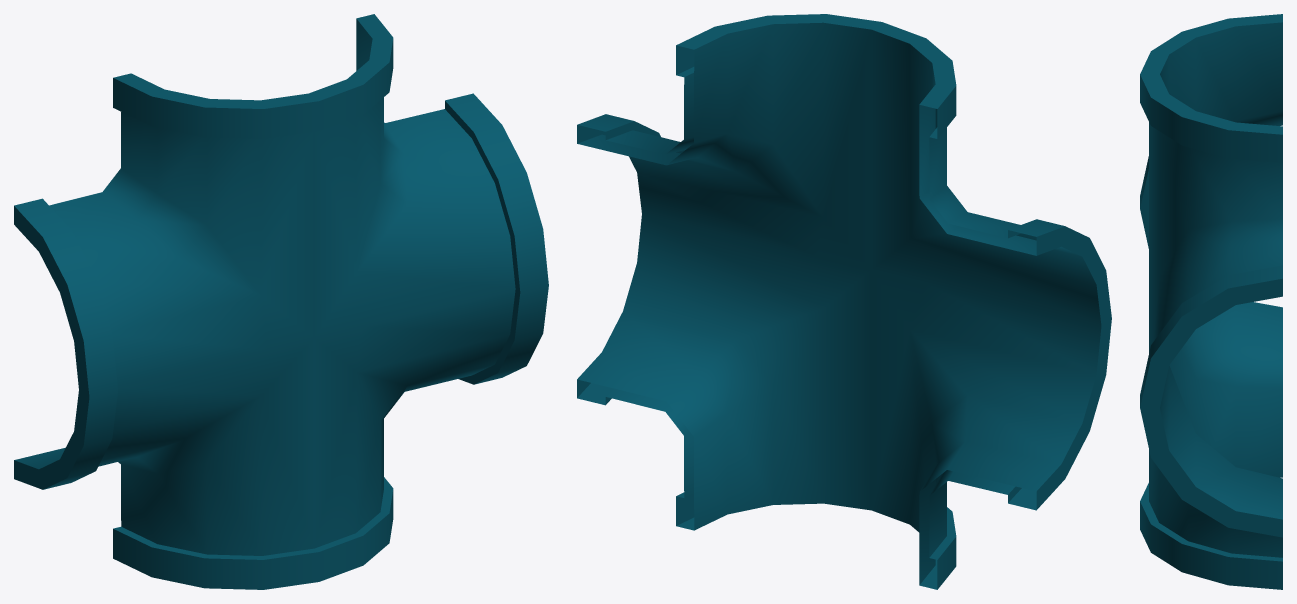
File: Modulo4_Cruz_Blockout_Cobertura.FBX
3 renders of one model, left to right at view 1: azimuth 30°, elevation 25°; view 2: azimuth 150°, elevation 25°; view 3: azimuth 270°, elevation 25°, orthographic. The views are drawn at different scales.
Parts seen in each view (by area): view 1: Tubo_Modulo4_Cruz_Covertura; view 2: Tubo_Modulo4_Cruz_Covertura; view 3: Tubo_Modulo4_Cruz_Covertura.
Boxes of the visible parts, left/top/right/bottom form: Tubo_Modulo4_Cruz_Covertura: left=14, top=14, right=548, bottom=589; Tubo_Modulo4_Cruz_Covertura: left=577, top=14, right=1111, bottom=589; Tubo_Modulo4_Cruz_Covertura: left=1140, top=14, right=1282, bottom=589.
Bounding box in the file's own units: 181 × 181 × 51.47.
